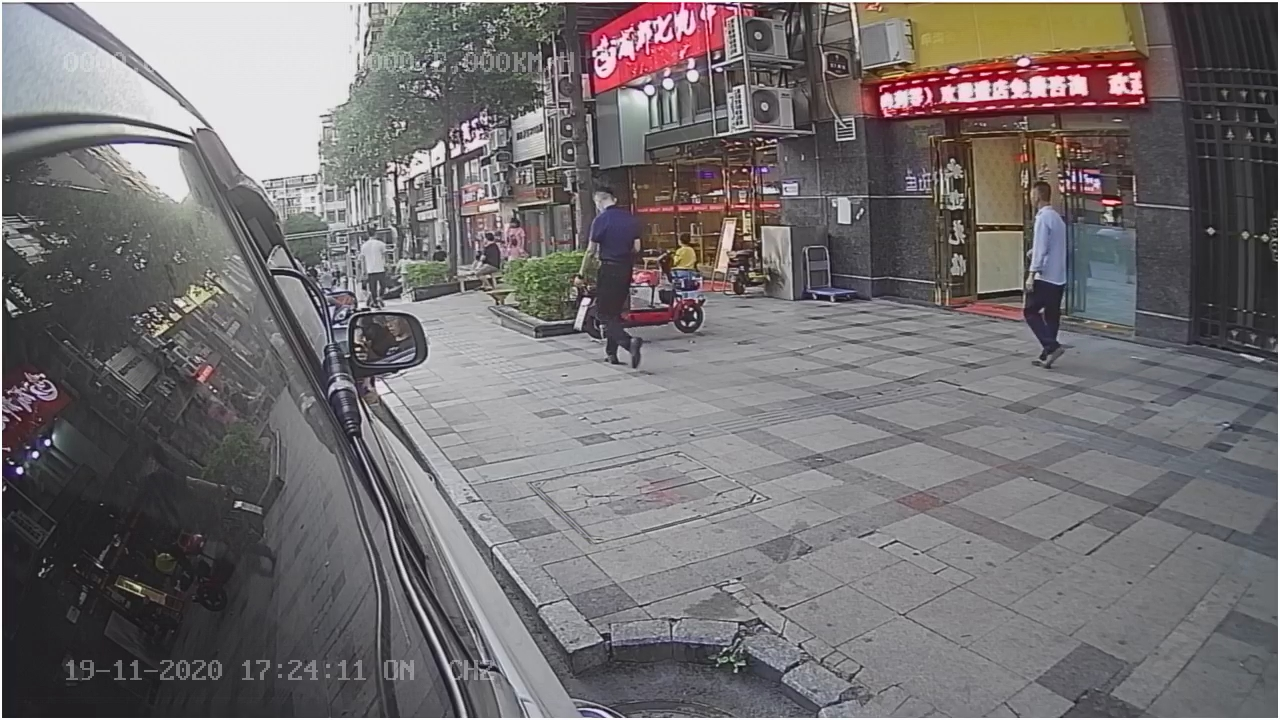person: (568, 186, 652, 368), (1012, 175, 1077, 375)
